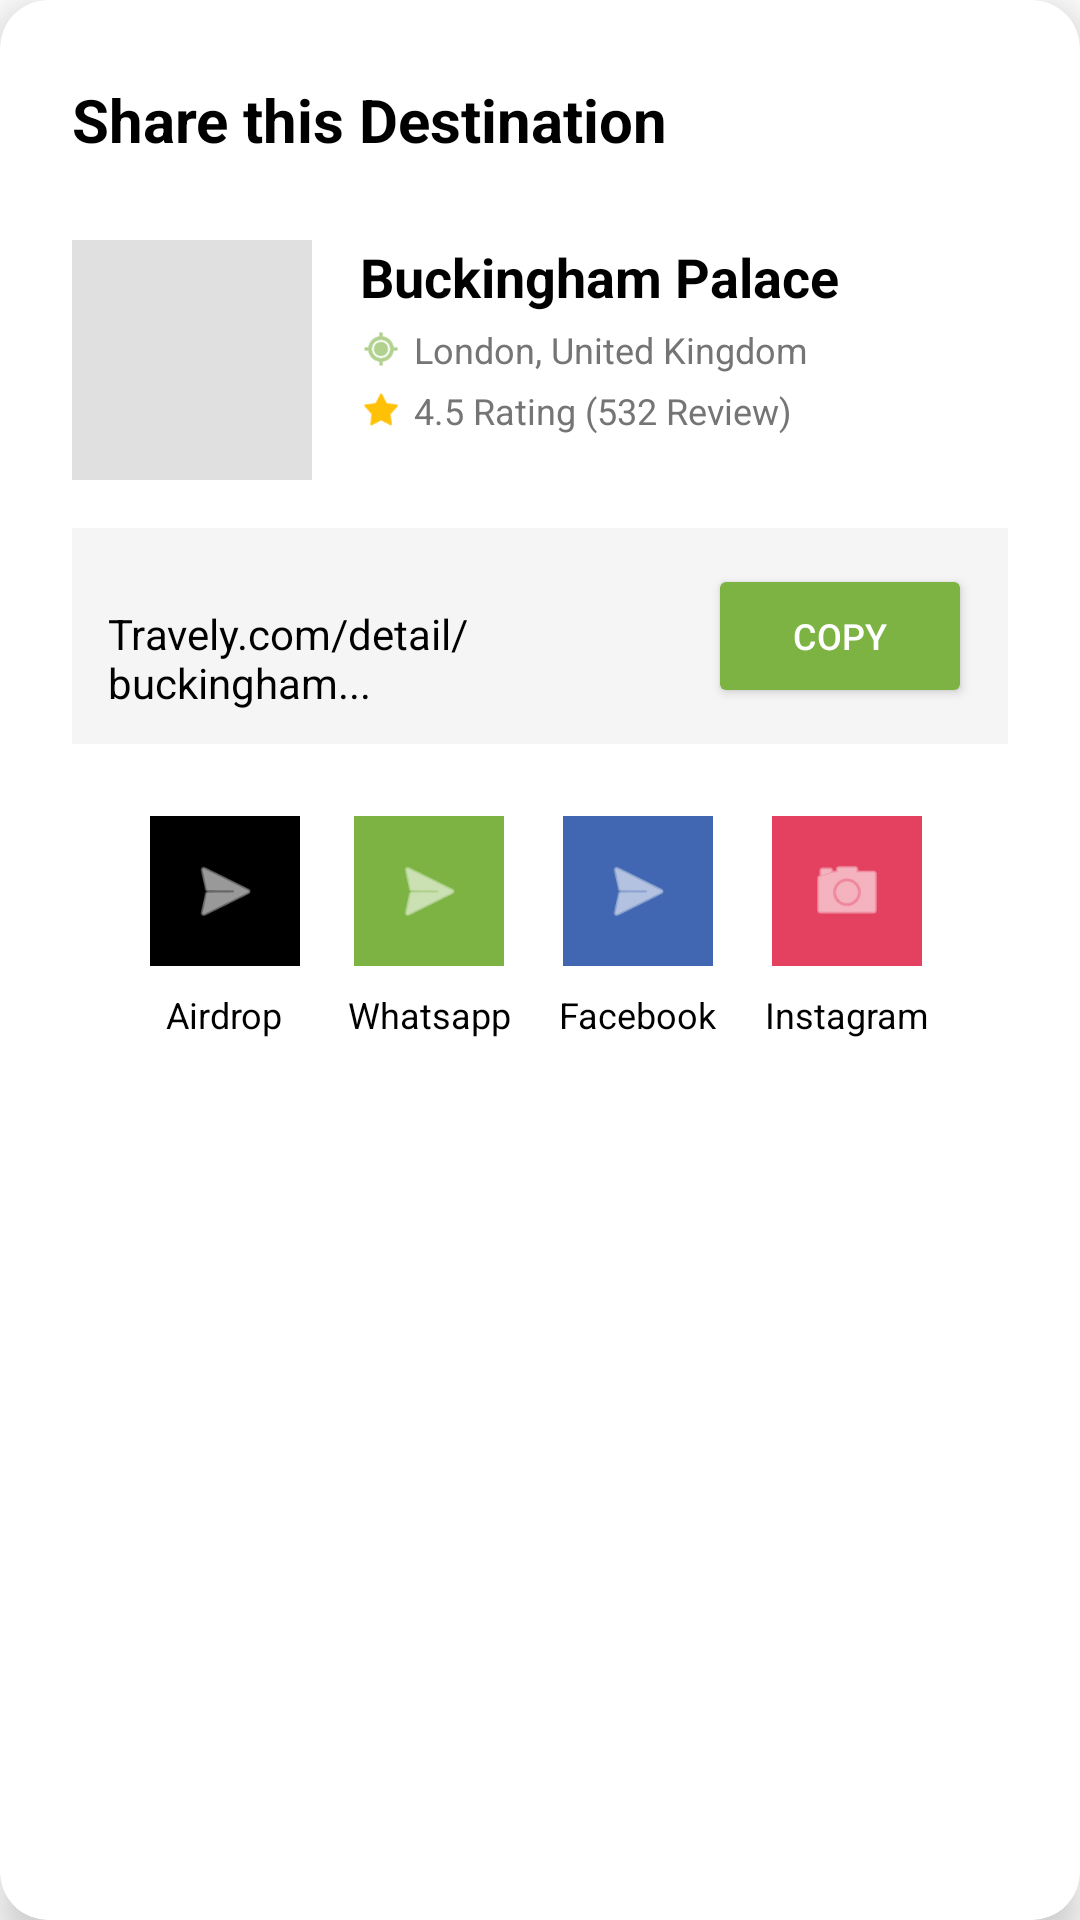

Locate icon controls on the screen. Image size 1080px x 1920px, boxes as (x1, y1, x2, y2).
camera: (772, 816, 922, 966)
mylocation: (364, 332, 398, 366)
send: (150, 816, 300, 966), (354, 816, 504, 966), (563, 816, 713, 966)
star on: (364, 393, 398, 426)
